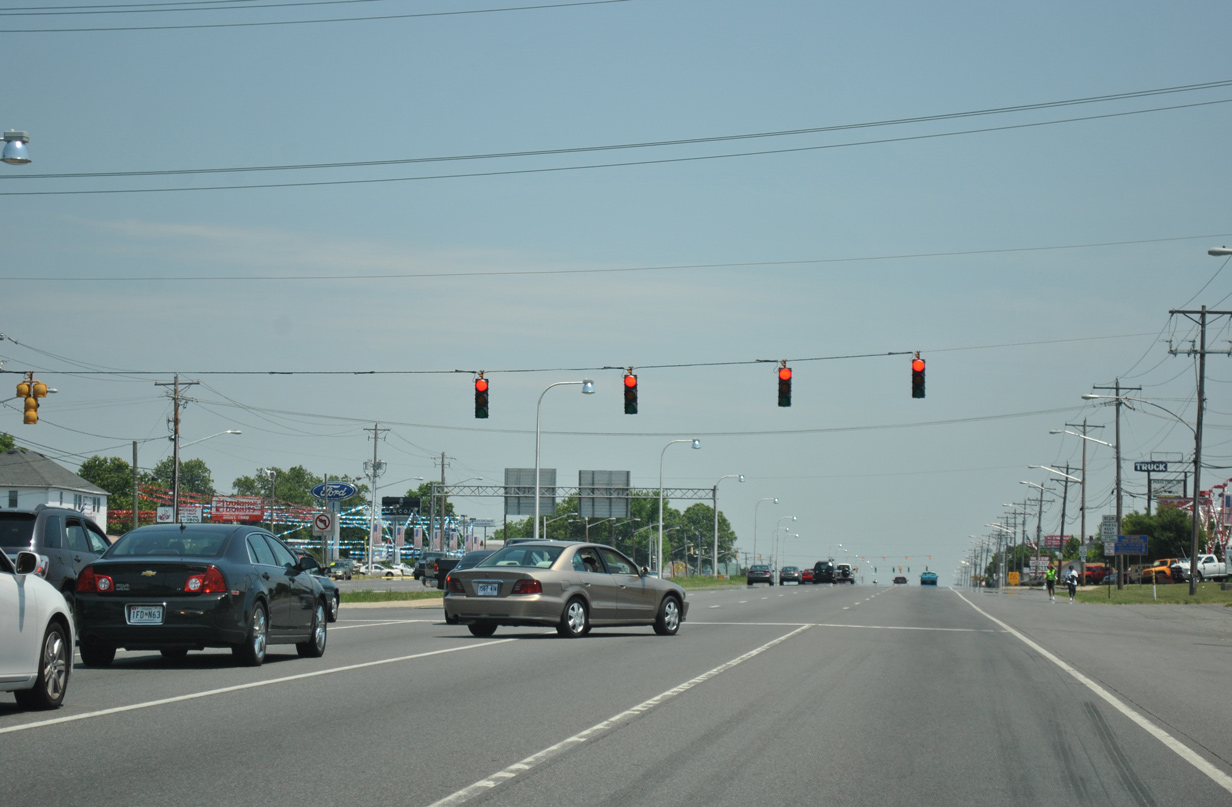traffic_light: (473, 377, 491, 420), (622, 373, 640, 416), (910, 357, 928, 400), (776, 366, 793, 409)
